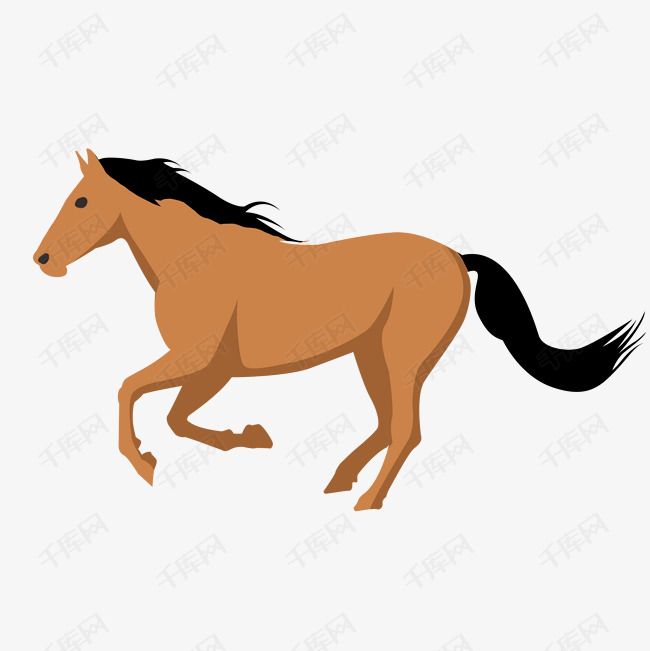background: (19, 132, 650, 512)
